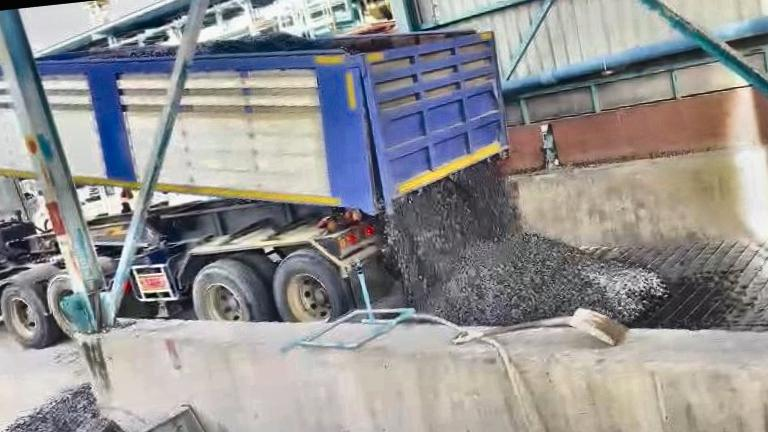gravel: (388, 163, 666, 323), (0, 385, 115, 432), (196, 31, 353, 55), (74, 46, 176, 57)
